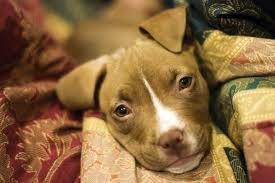Perro Pitbull: (74, 20, 218, 180)
